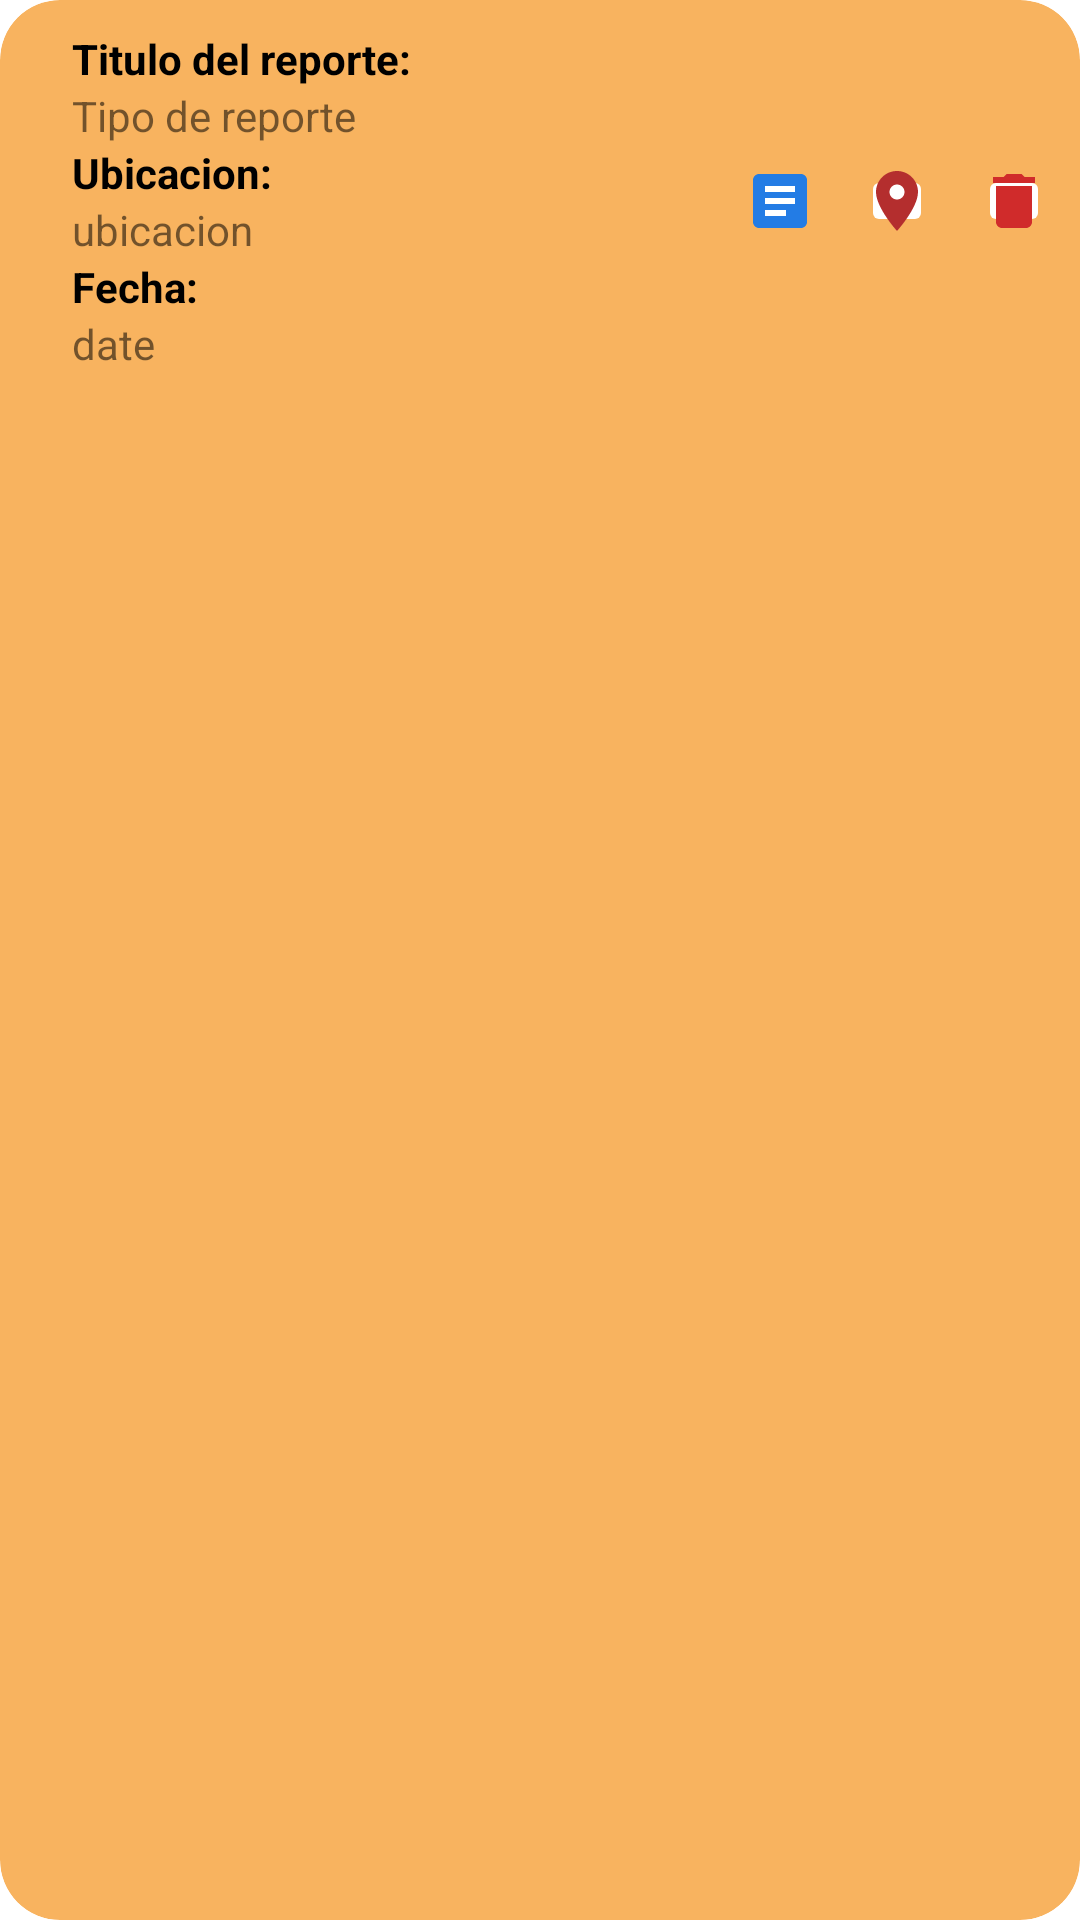

Locate icon controls on the screen. Image size 1080x1920, boxes as (x1, y1, x2, y2).
deletered: (990, 174, 1038, 228)
detailblue: (753, 174, 807, 228)
iclocation: (873, 171, 921, 231)
